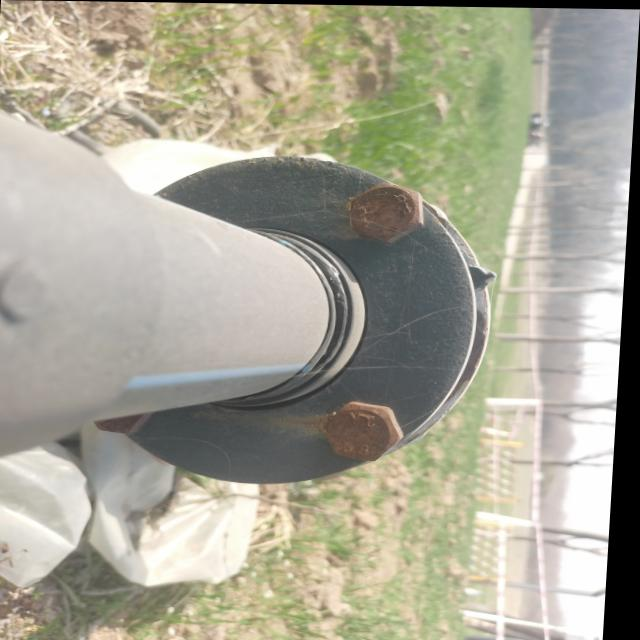Rusty bolt: (349, 180, 430, 243), (330, 402, 413, 463), (102, 414, 163, 435)
